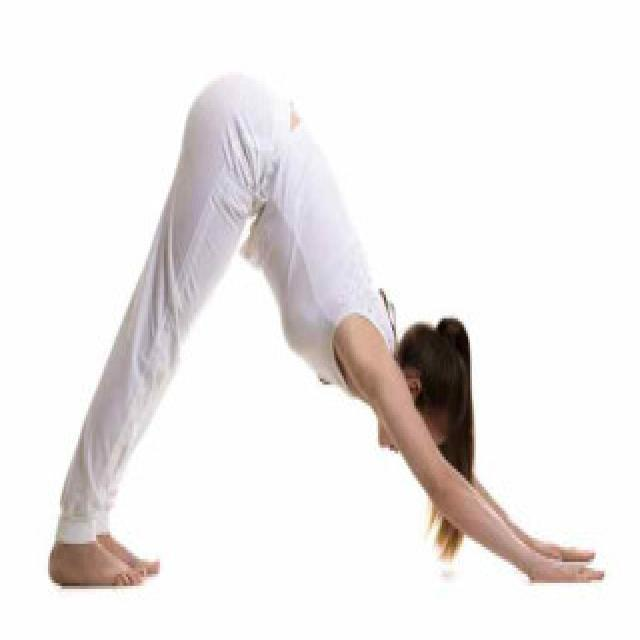yoga-pose downward: (48, 68, 592, 592)
